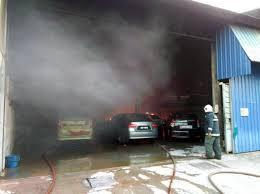smoke: (0, 0, 192, 133)
